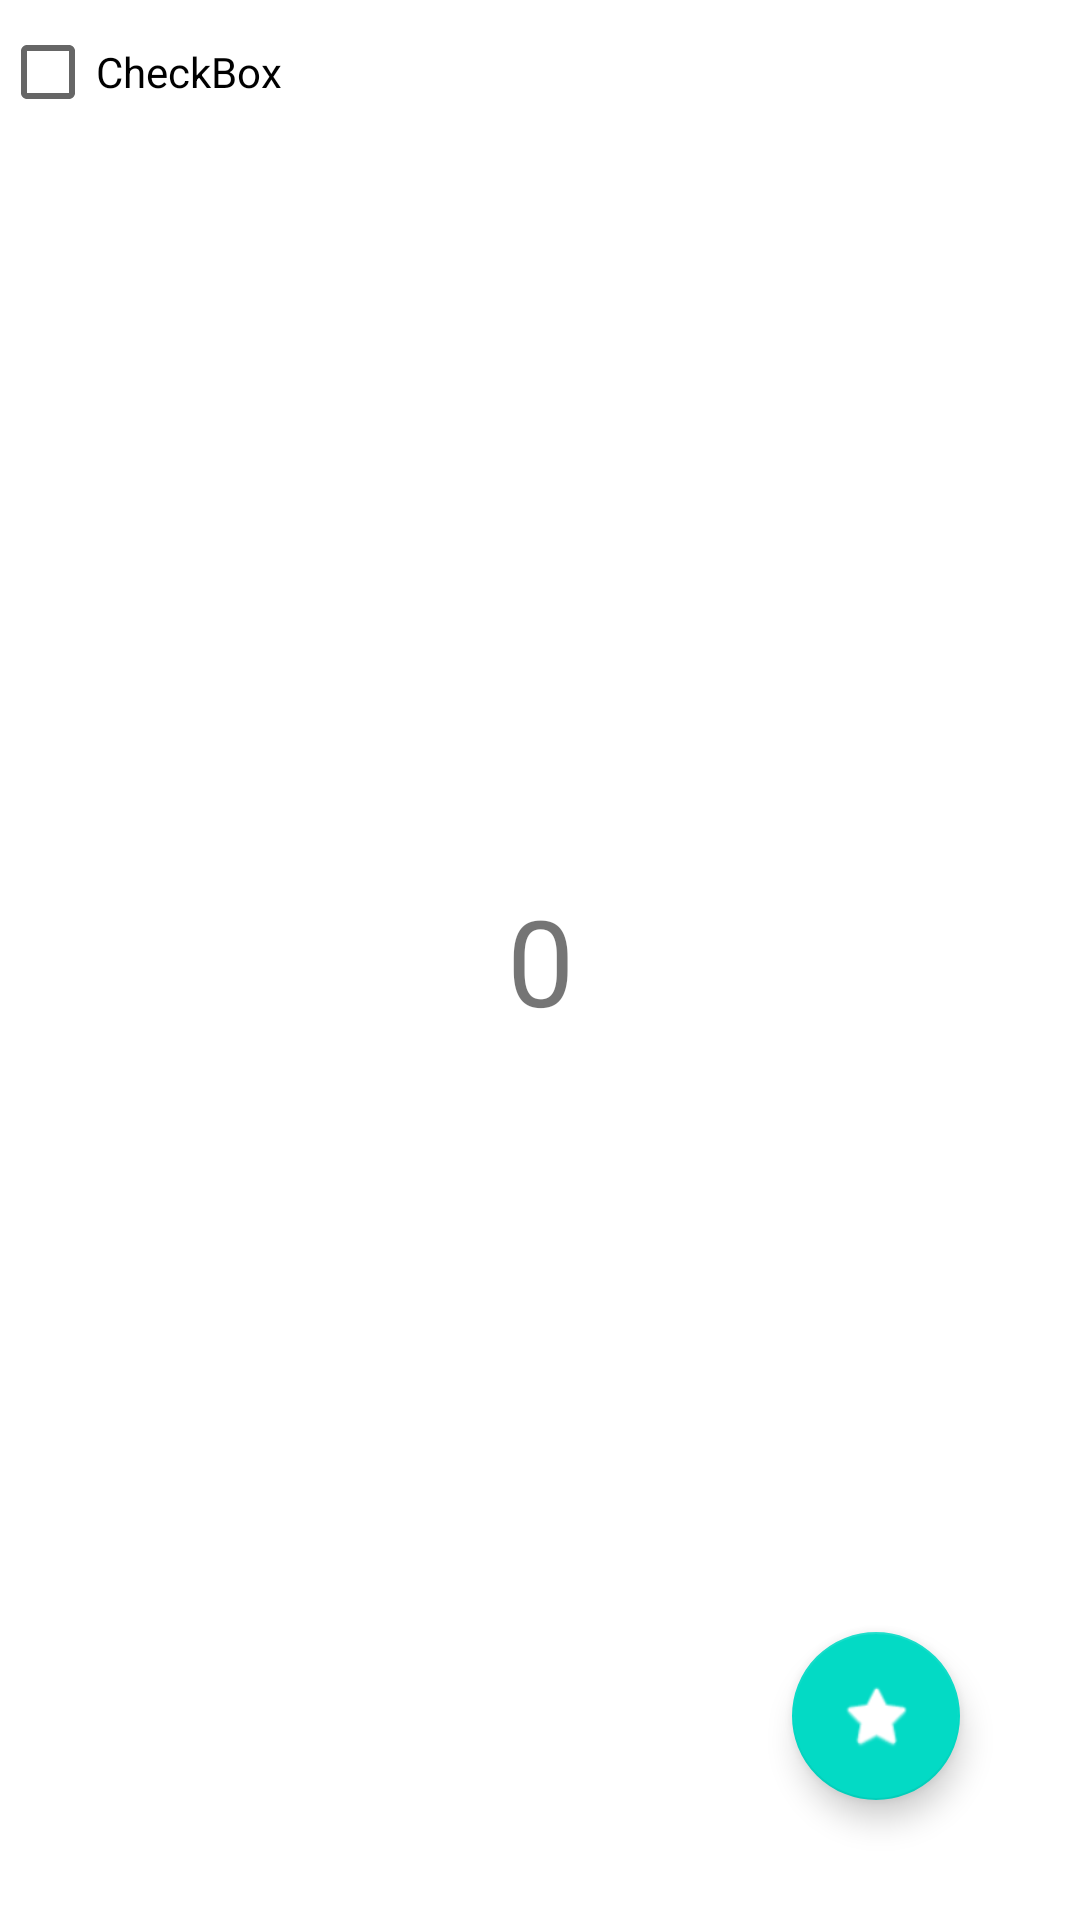

Icons on this 1080w x 1920h Android screen, each with its box as {"left": x1, "top": y1, "right": x2, "bottom": y2}:
star on: {"left": 792, "top": 1632, "right": 960, "bottom": 1800}
